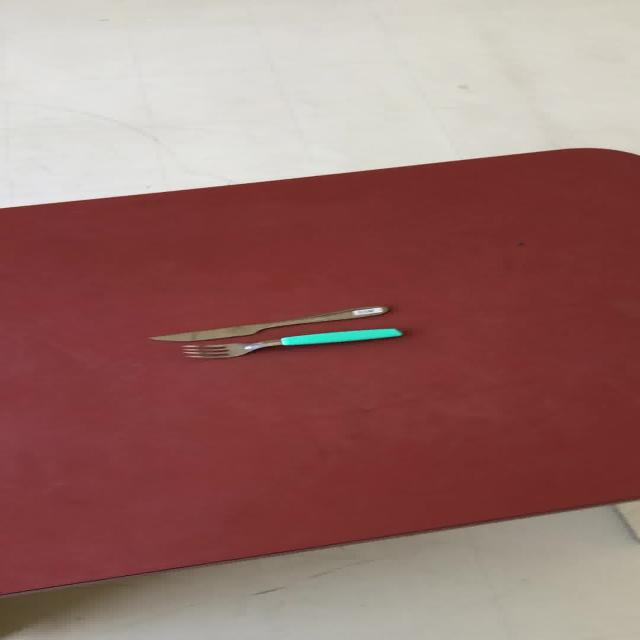fork: (179, 326, 403, 359)
knife fork: (147, 305, 389, 342)
